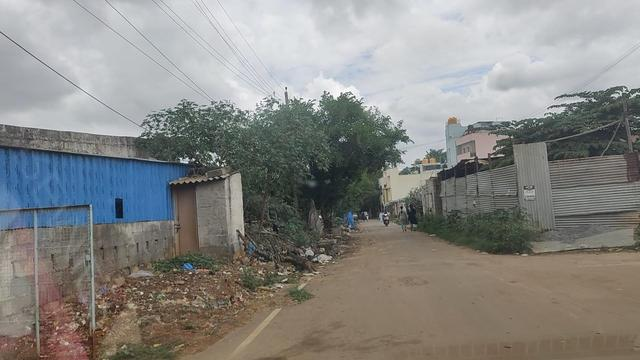RoadDamages: (388, 272, 433, 293)
